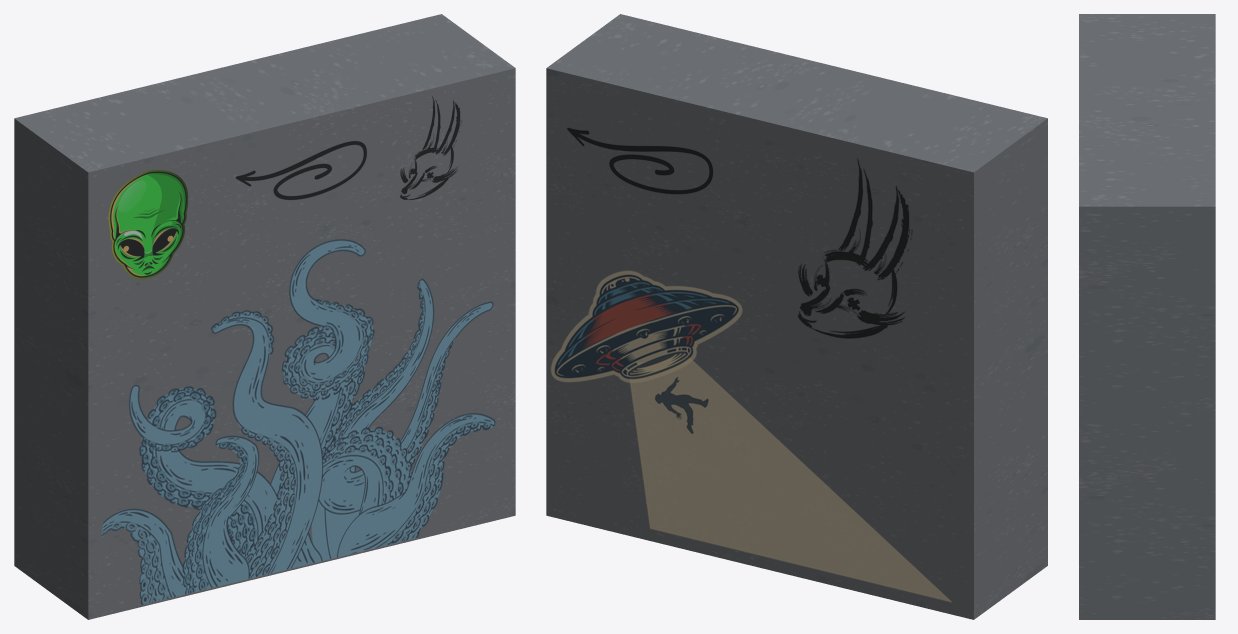
The model's file is Grafitti_Wall_Short_G.glb.
3 renders of one model, left to right at view 1: azimuth 30°, elevation 25°; view 2: azimuth 150°, elevation 25°; view 3: azimuth 270°, elevation 25°, orthographic. The views are drawn at different scales.
Visible parts, largest first — view 1: Graffiti_Wall_G; view 2: Graffiti_Wall_G; view 3: Graffiti_Wall_G.
Boxes of the visible parts, x1,y1,x2,y2 form: Graffiti_Wall_G: (14,14,515,619); Graffiti_Wall_G: (546,14,1047,619); Graffiti_Wall_G: (1079,14,1215,619).
Size of what is drawn, in the model's own units: 2.01 by 2 by 0.6387.
Materials: 2 (2 with a texture image).
